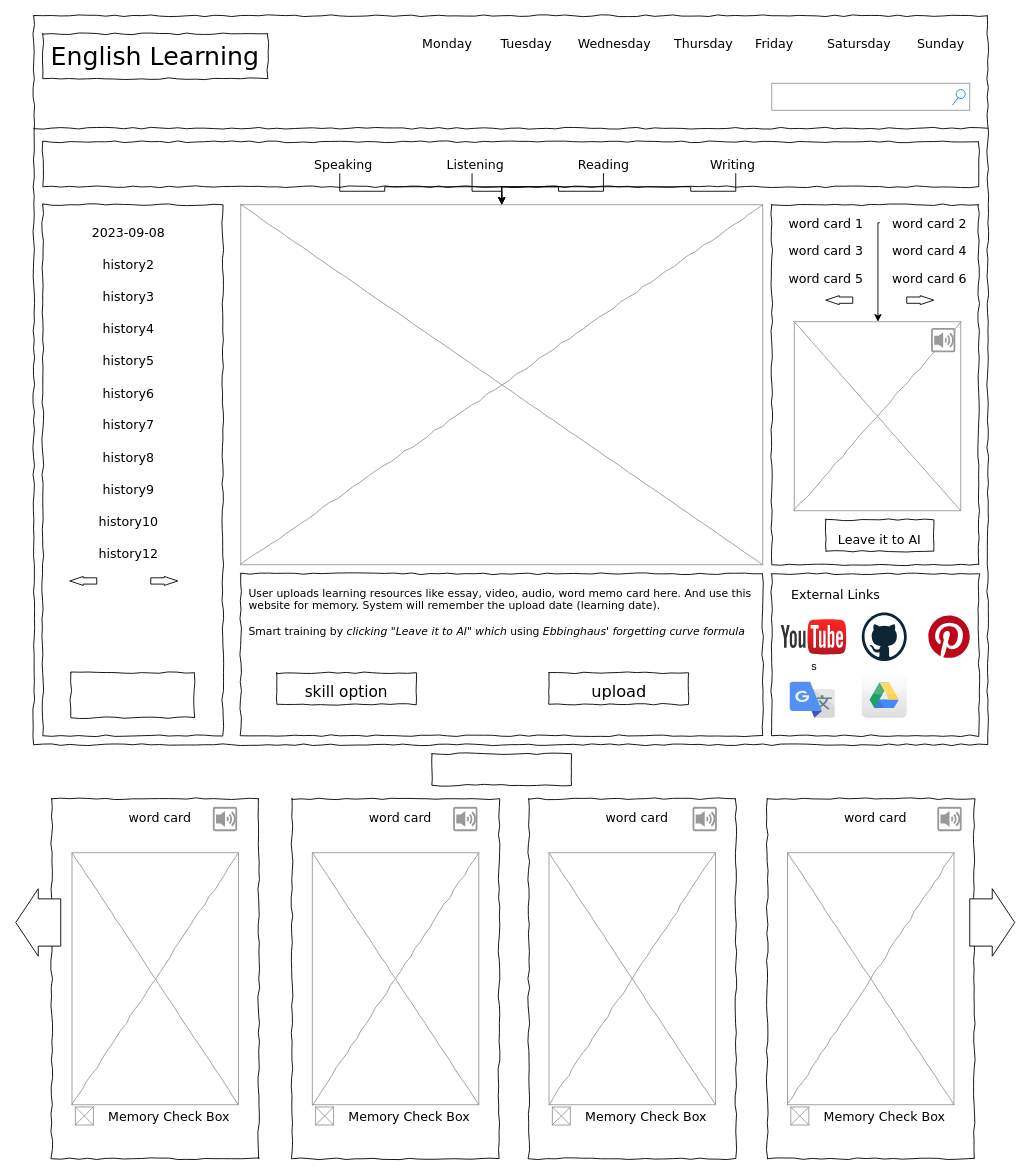
The diagram is 1031 pixels wide and 1175 high, and some of its shapes have lost their labels. The box of each missing label's shape, as (x1, y1, x2, y2) in pixels:
Ebbinghaus ' forgetting curve: (70, 672, 195, 718)
Search: (771, 82, 970, 110)
Word Card Maker: (431, 753, 572, 785)
